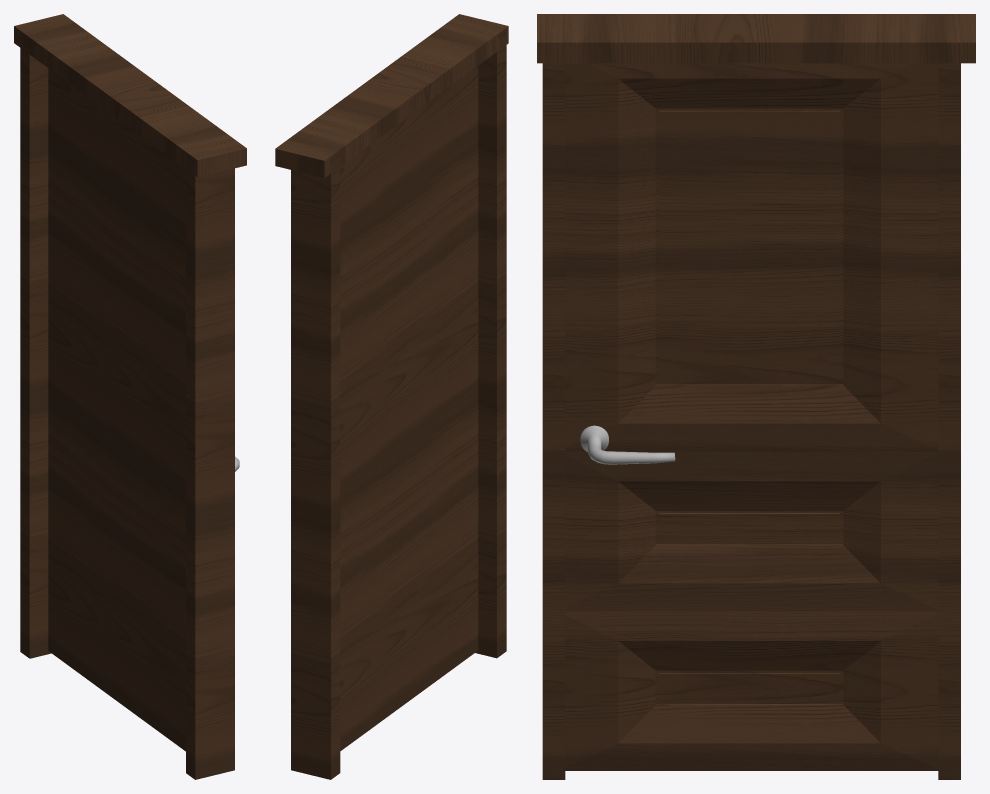
Rendered from Door.fbx.
3 renders of one model, left to right at view 1: azimuth 30°, elevation 25°; view 2: azimuth 150°, elevation 25°; view 3: azimuth 270°, elevation 25°, orthographic. The views are drawn at different scales.
Parts seen in each view (by area): view 1: Cube.185, Cube.183; view 2: Cube.185, Cube.183; view 3: Cube.185, Cube.183.
Boxes of the visible parts, x1,y1,x2,y2 form: Cube.185: [48, 68, 239, 751]; Cube.183: [14, 14, 246, 779]; Cube.185: [340, 66, 478, 750]; Cube.183: [275, 14, 508, 779]; Cube.185: [565, 63, 938, 770]; Cube.183: [537, 14, 975, 779].
Size of the model in its own units: 24.16 by 204 by 109.
Materials: 2 (1 with a texture image).
